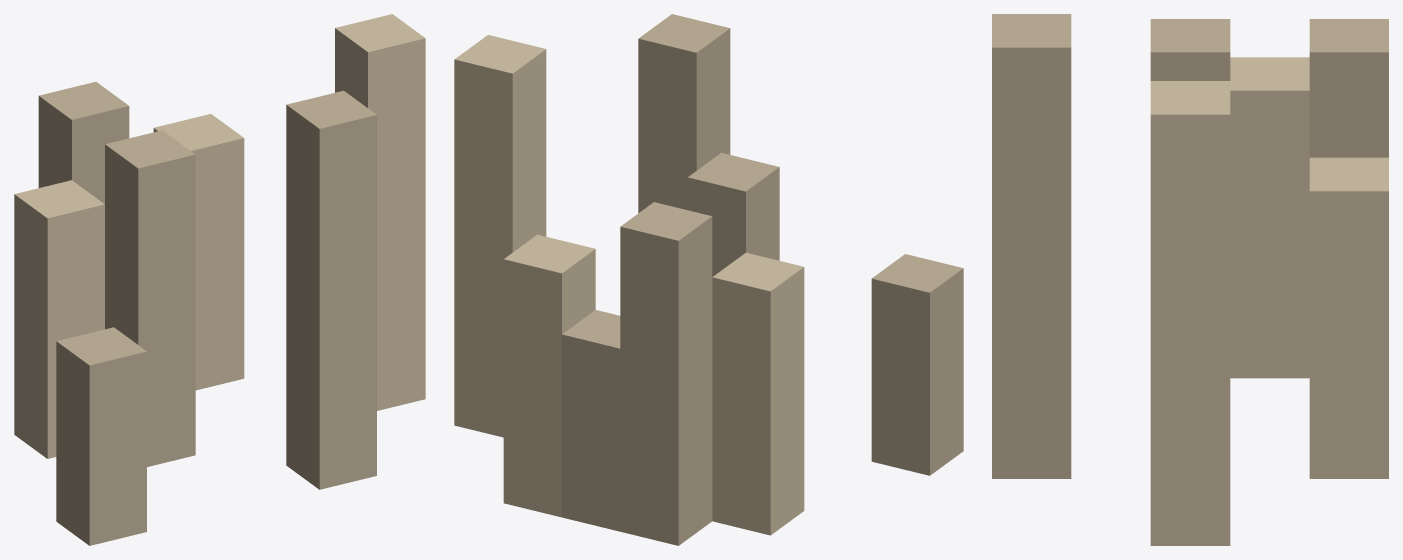
File: cebolla_silvestre_04.glb
3 renders of one model, left to right at view 1: azimuth 30°, elevation 25°; view 2: azimuth 150°, elevation 25°; view 3: azimuth 270°, elevation 25°, orthographic. The views are drawn at different scales.
Visible parts, largest first — view 1: cebolla_silvestre_04; view 2: cebolla_silvestre_04; view 3: cebolla_silvestre_04.
Boxes of the visible parts, left/top/right/bottom form: cebolla_silvestre_04: left=14, top=14, right=425, bottom=545; cebolla_silvestre_04: left=454, top=14, right=963, bottom=545; cebolla_silvestre_04: left=992, top=14, right=1388, bottom=545.
Size of the model in its own units: 0.7 by 0.6 by 0.5.
